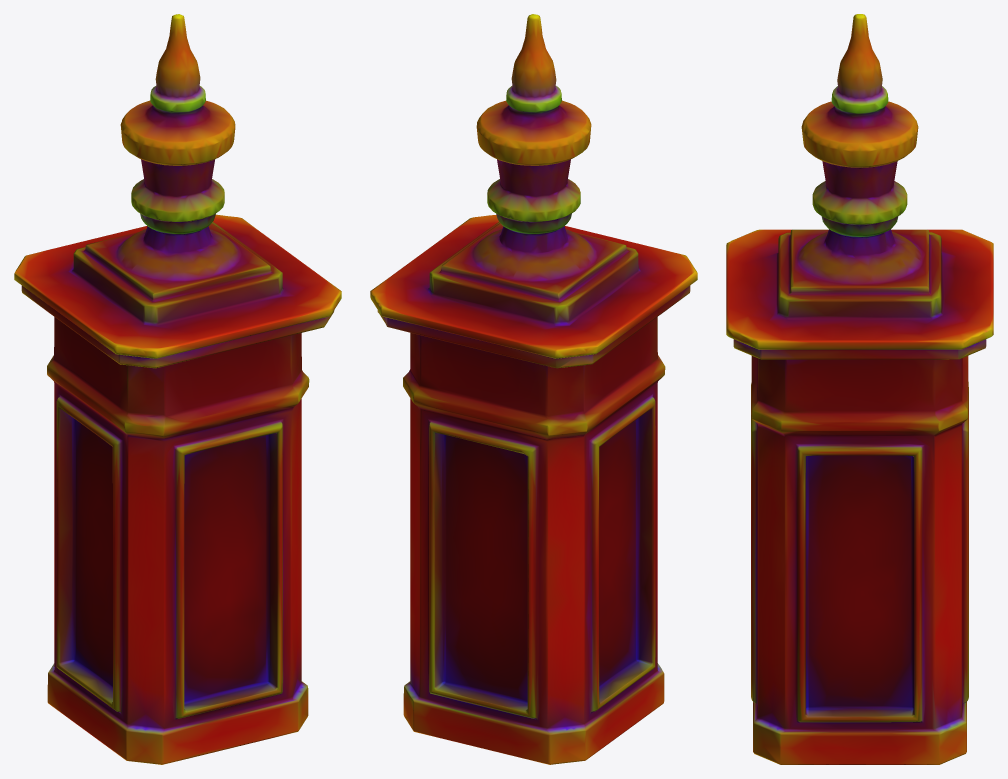
Rendered from Plinth.fbx.
3 views of the same model, side by side, from view 1: azimuth 30°, elevation 25°; view 2: azimuth 150°, elevation 25°; view 3: azimuth 270°, elevation 25° (orthographic).
Visible parts, largest first — view 1: transform1; view 2: transform1; view 3: transform1.
Boxes of the visible parts, x1,y1,x2,y2 form: transform1: (14, 14, 341, 764); transform1: (370, 14, 697, 764); transform1: (726, 14, 993, 764).
Size of the model in its own units: 111 by 111 by 323.
